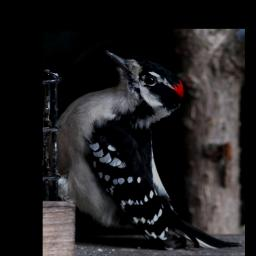Woodpecker: (49, 50, 242, 249)
